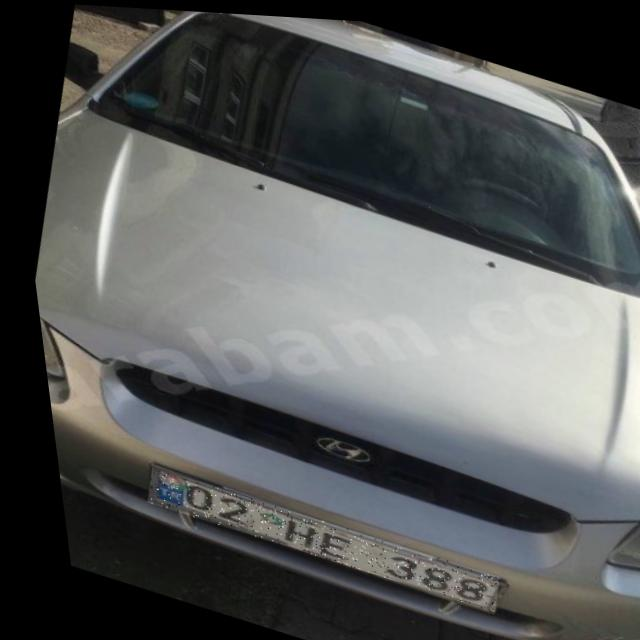license_plate: (130, 465, 488, 607)
